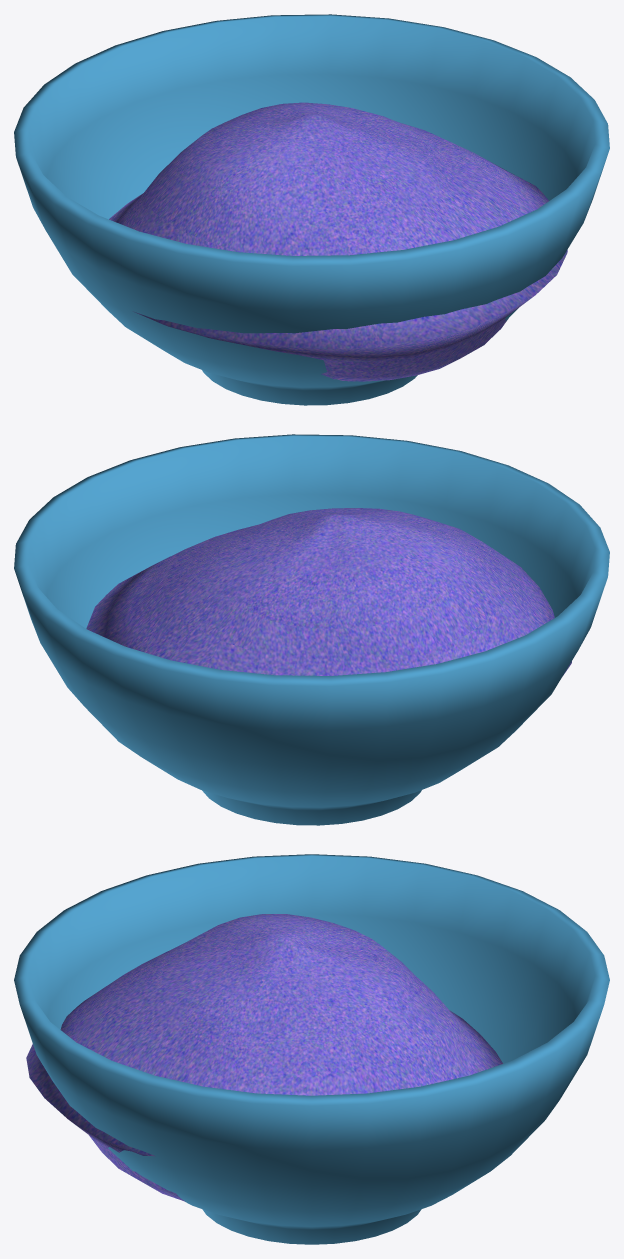
The model's file is Bowl of Blue.obj.
3 renders of one model, top to bottom at view 1: azimuth 30°, elevation 25°; view 2: azimuth 150°, elevation 25°; view 3: azimuth 270°, elevation 25°, orthographic.
Visible parts, largest first — view 1: Bowl_of_Blue; view 2: Bowl_of_Blue; view 3: Bowl_of_Blue.
Boxes of the visible parts, x1,y1,x2,y2 form: Bowl_of_Blue: (14, 14, 609, 405); Bowl_of_Blue: (14, 434, 609, 825); Bowl_of_Blue: (14, 854, 609, 1244).
Size of the model in its own units: 0.4424 by 0.208 by 0.4424.
